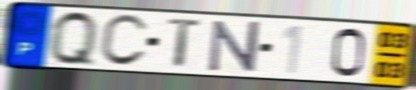0: (330, 26, 367, 79)
1: (281, 24, 304, 75)
C: (97, 12, 151, 69)
N: (208, 20, 262, 74)
Q: (48, 8, 99, 69)
T: (165, 16, 206, 71)
